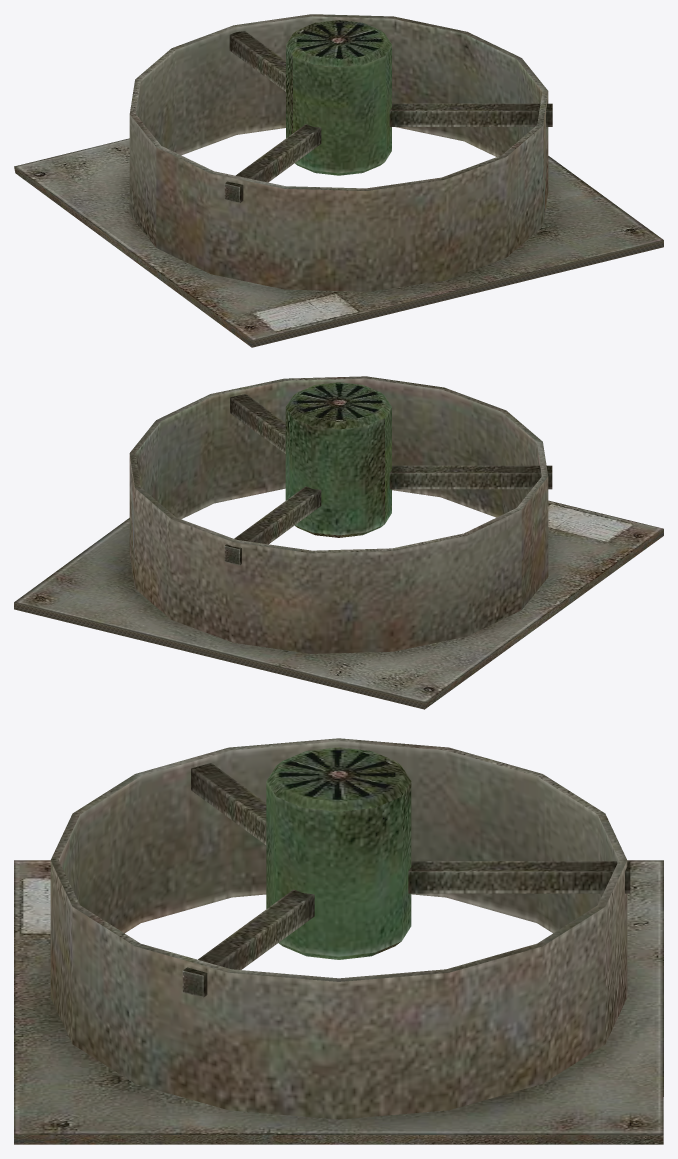
Rendered from fanhousing.glb.
3 views of the same model, one above another, from view 1: azimuth 30°, elevation 25°; view 2: azimuth 150°, elevation 25°; view 3: azimuth 270°, elevation 25° (orthographic). The views are drawn at different scales.
Visible parts, largest first — view 1: 0_fan; view 2: 0_fan; view 3: 0_fan.
Part boxes in pixels (<box>): 0_fan: <box>14,14,663,347</box>; 0_fan: <box>14,376,663,709</box>; 0_fan: <box>14,738,663,1144</box>.
Size of the model in its own units: 1.63 by 0.6424 by 1.63.
1 material, 1 textured.
